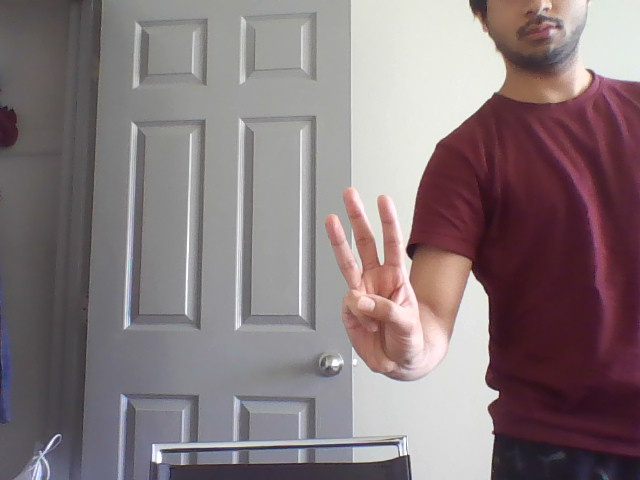three: (314, 182, 419, 290)
